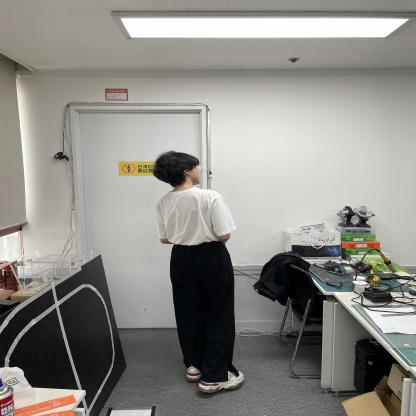normal: (150, 146, 254, 396)
